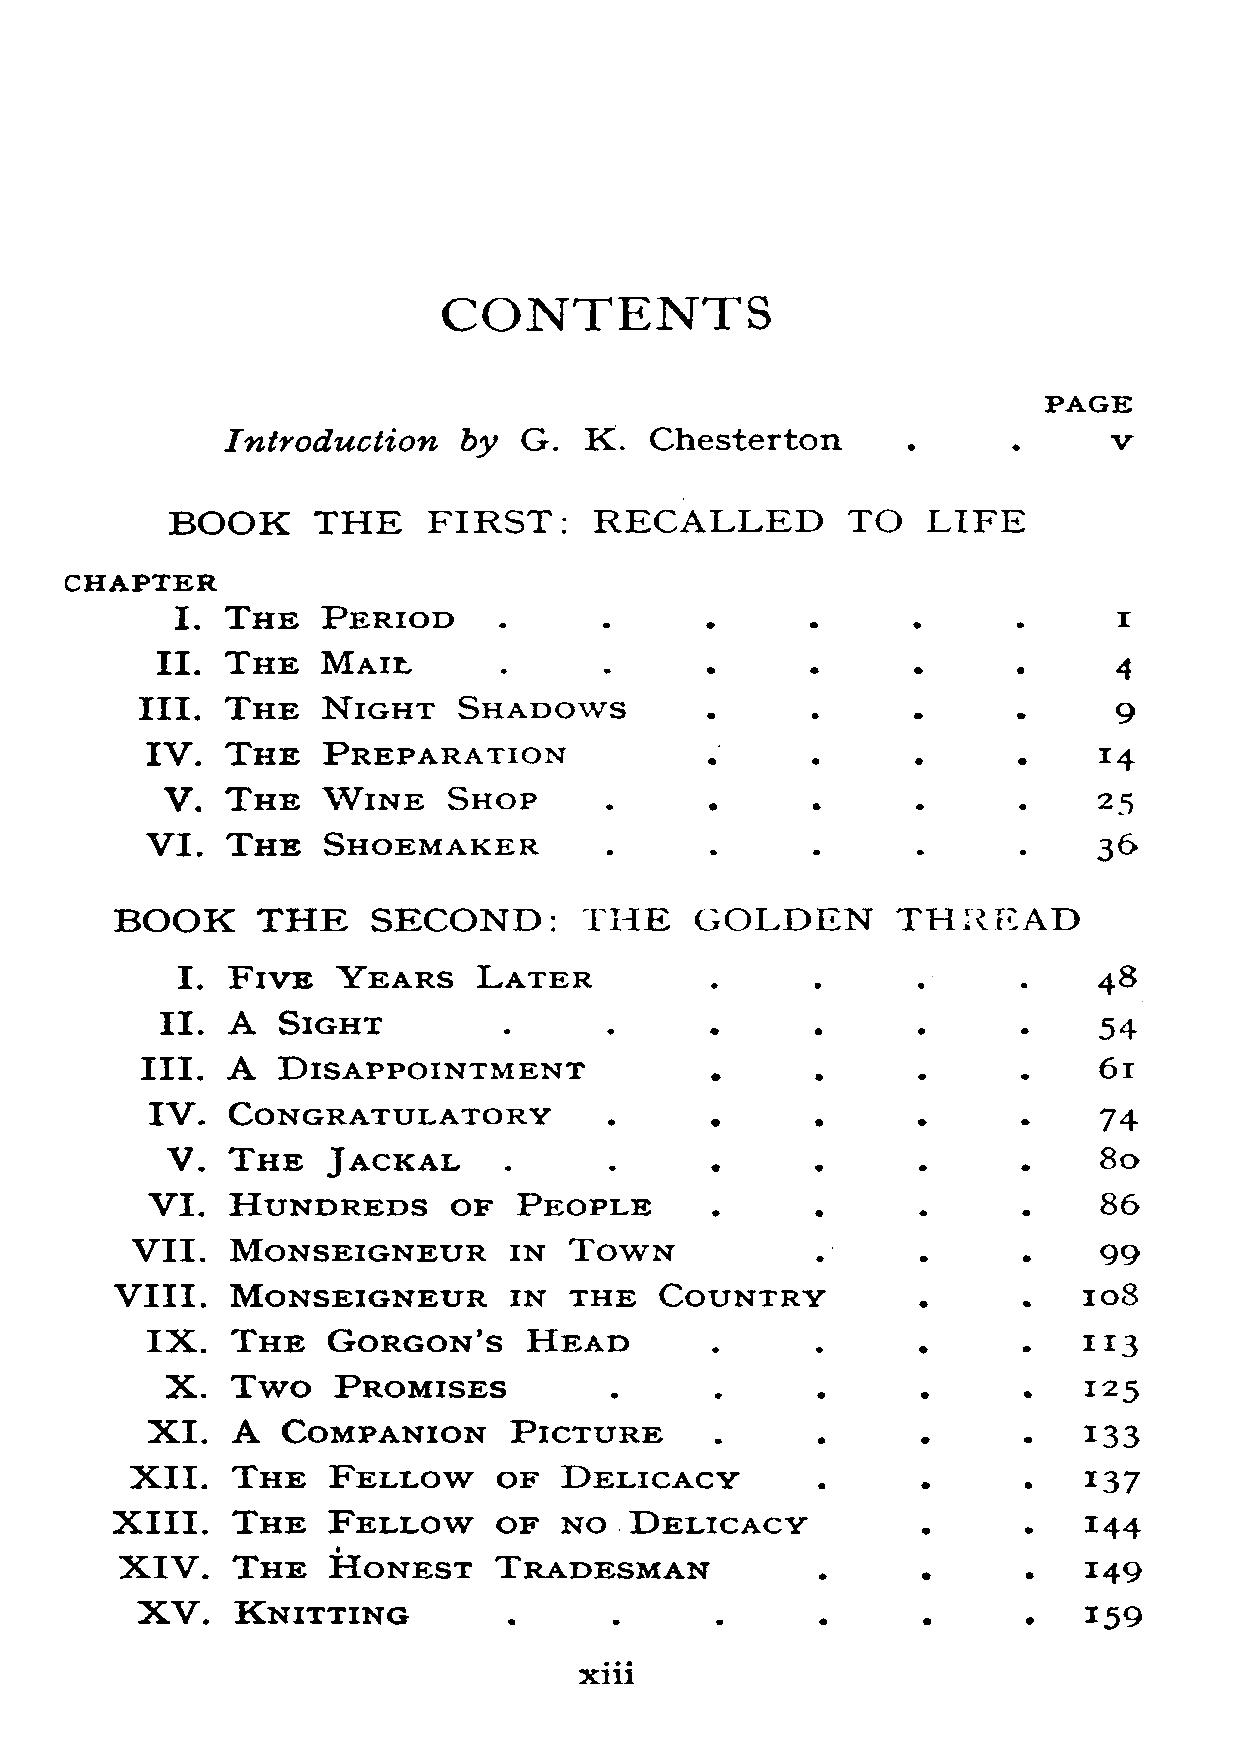TOC_chapter: (109, 902, 1084, 935), (165, 502, 1033, 538), (221, 416, 843, 454), (111, 1280, 829, 1310), (111, 1508, 811, 1537), (142, 1413, 666, 1448), (125, 1463, 741, 1491), (127, 1235, 674, 1266), (115, 1553, 711, 1581), (138, 1051, 590, 1086), (146, 1188, 654, 1219), (140, 1325, 633, 1355), (146, 1096, 557, 1133), (138, 827, 541, 863), (134, 692, 629, 721), (144, 735, 570, 768), (172, 956, 597, 988), (164, 1142, 462, 1182), (164, 784, 544, 815), (162, 1373, 509, 1402), (157, 998, 388, 1040), (153, 644, 423, 679), (133, 1600, 411, 1629), (168, 603, 456, 629)
TOC_pagenumber: (1082, 1551, 1143, 1589), (1078, 1417, 1143, 1452), (1082, 1507, 1143, 1543), (1078, 1464, 1143, 1498), (1080, 1329, 1142, 1363), (1082, 1376, 1147, 1406), (1083, 1598, 1143, 1632), (1080, 1278, 1143, 1308), (1083, 1239, 1142, 1268), (1095, 1188, 1145, 1220), (1096, 1011, 1138, 1045), (1095, 964, 1138, 996), (1095, 1141, 1139, 1172), (1094, 788, 1138, 819), (1098, 738, 1134, 774), (1096, 833, 1139, 863), (1099, 1051, 1137, 1084), (1094, 1104, 1138, 1133), (1107, 425, 1137, 460), (1108, 697, 1139, 727), (1113, 654, 1138, 682), (1110, 605, 1137, 629)
chapter: (436, 290, 776, 336)
content_pagenumber: (573, 1657, 640, 1688)
